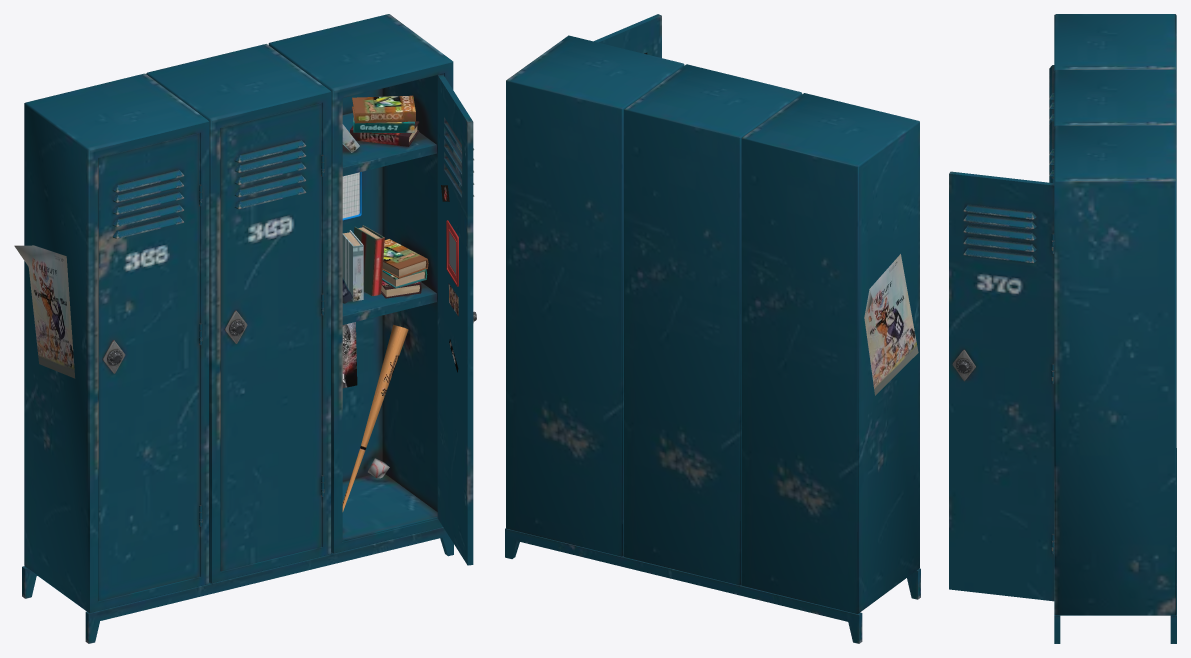
Rendered from locker.glb.
The picture shows the model from 3 angles, left to right: view 1: azimuth 30°, elevation 25°; view 2: azimuth 150°, elevation 25°; view 3: azimuth 270°, elevation 25°; orthographic projection. The views are drawn at different scales.
Visible parts, largest first — view 1: Box001, Cylinder002; view 2: Box001, Cylinder002; view 3: Box001.
Boxes of the visible parts, x1=… form: Box001: x1=22, y1=14, x2=476, y2=643; Cylinder002: x1=14, y1=95, x2=458, y2=511; Box001: x1=505, y1=14, x2=920, y2=643; Cylinder002: x1=864, y1=254, x2=918, y2=395; Box001: x1=949, y1=14, x2=1176, y2=643.
Bounding box in the file's own units: 1.6 × 2 × 0.8905.
Materials: 2 (2 with a texture image).
